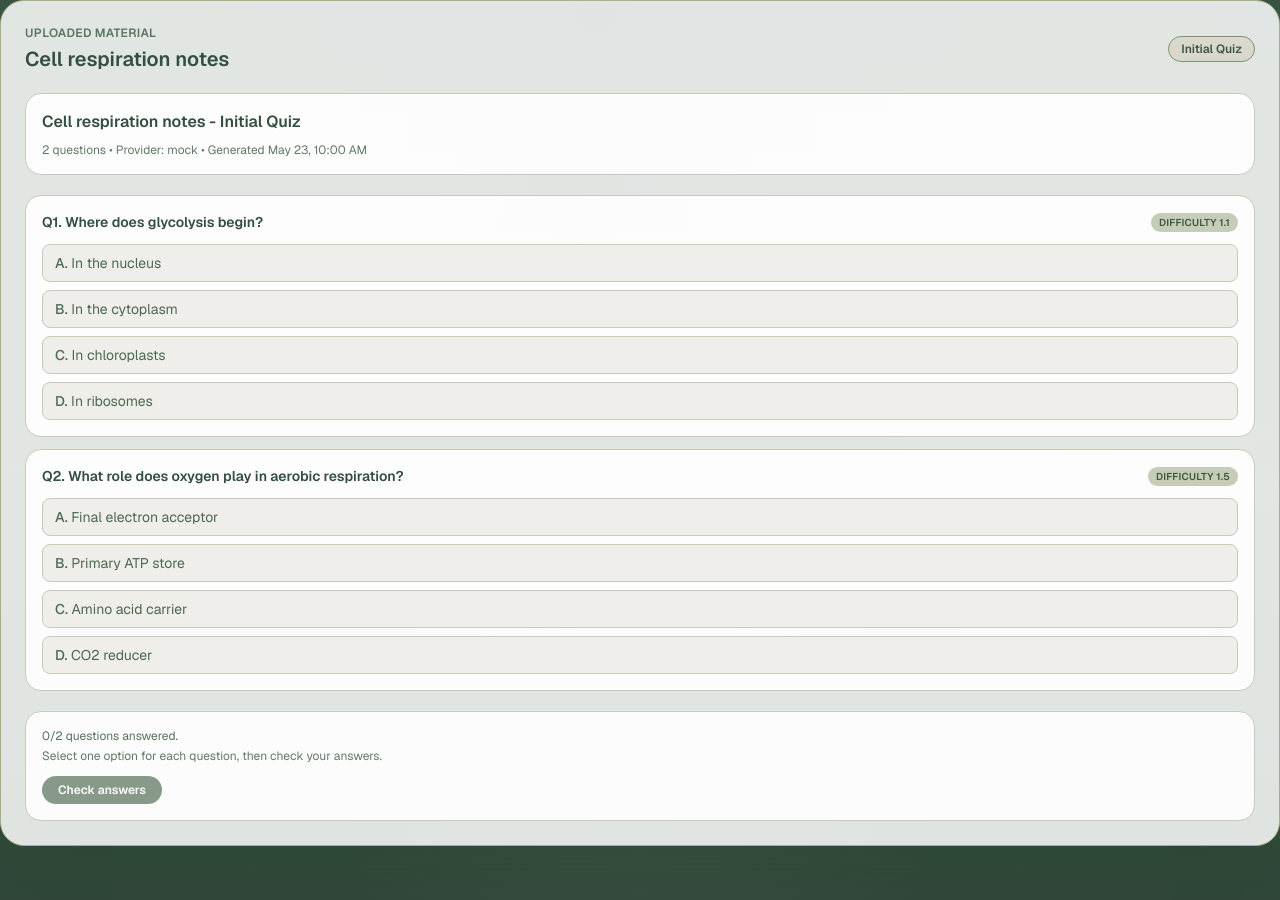
Scenario: GeneratedQuizPanel › keeps answers hidden until check and supports interactive attempts
Expected: the heading "Cell respiration notes - Initial Quiz" is shown, [42, 111, 301, 132]
Expected: the text "2 questions • Provider: mock • Generated May 23, 10:00 AM" is shown, [42, 142, 367, 158]
Click the button "A. In the nucleus" at (116, 263), box [42, 244, 1238, 282]
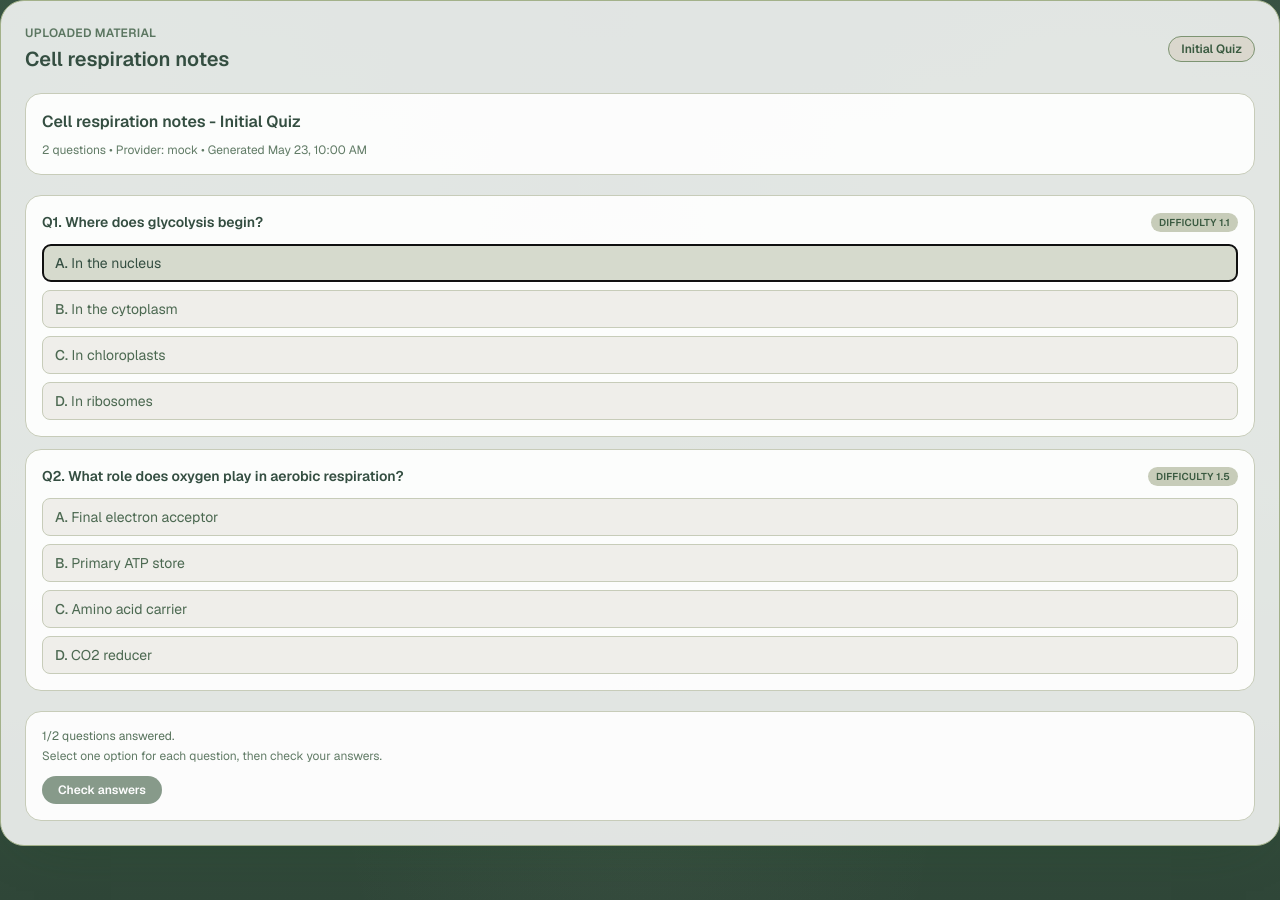
Click the button "A. Final electron acceptor" at (145, 517), box [42, 498, 1238, 536]
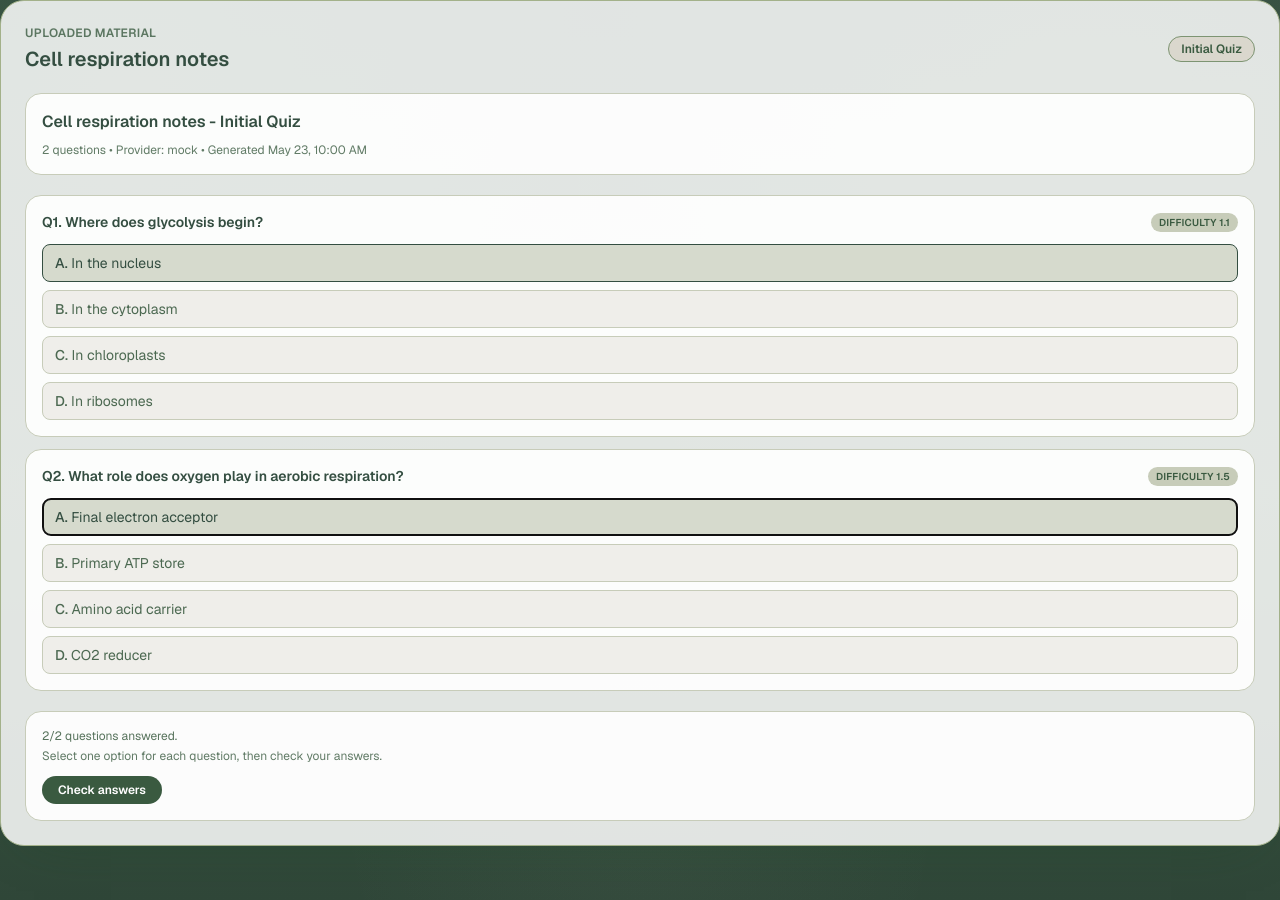
Now the button "Check answers" is enabled
Click the button "Check answers" at (102, 790), box [42, 776, 162, 804]
(page scrolled)
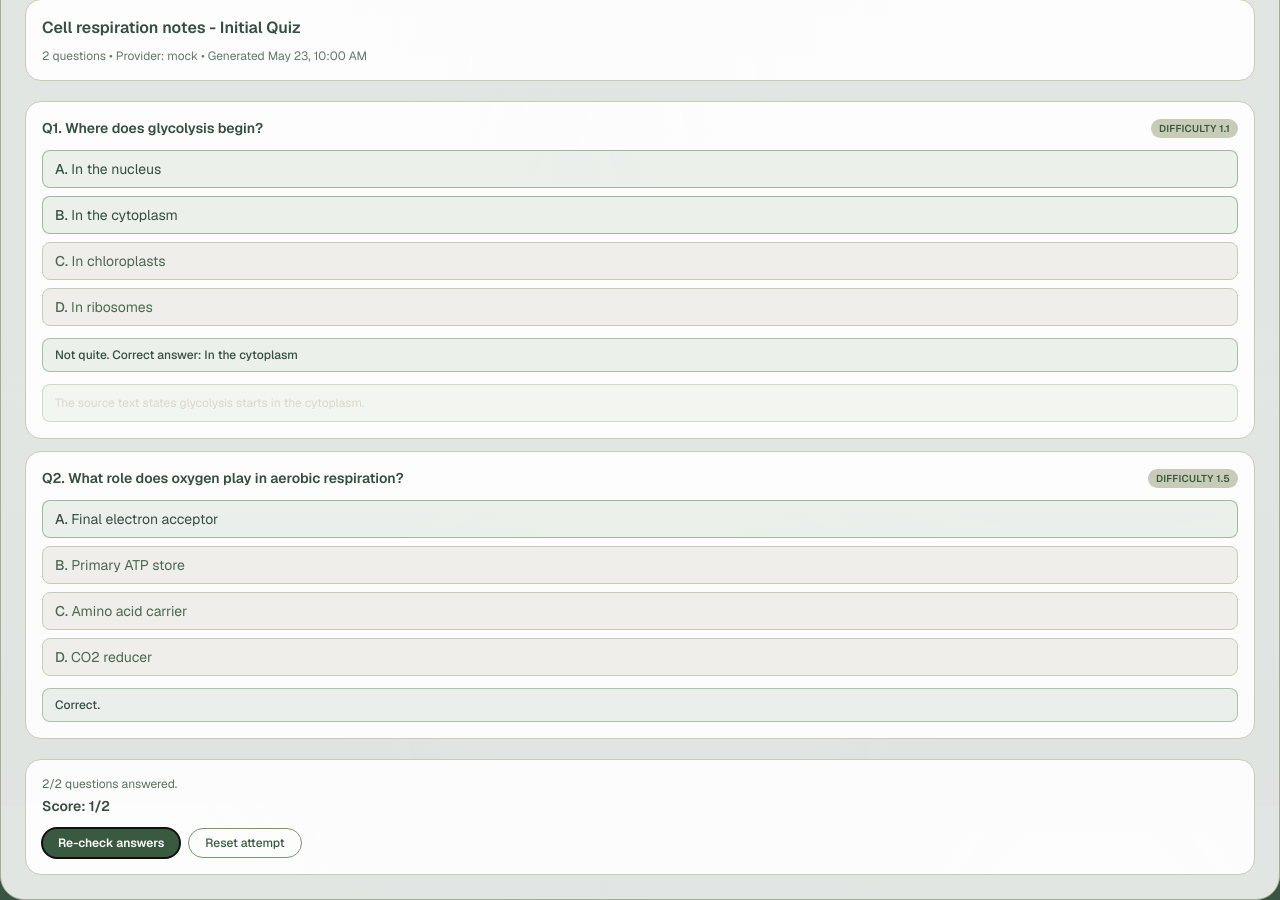
Now the text "The source text states glycolysis starts in the cytoplasm." is shown, box [42, 384, 1238, 422]
Now the text "Not quite. Correct answer: In the cytoplasm" is shown, box [42, 338, 1238, 372]
Now the text "Score: 1/2" is shown, box [42, 797, 110, 815]
